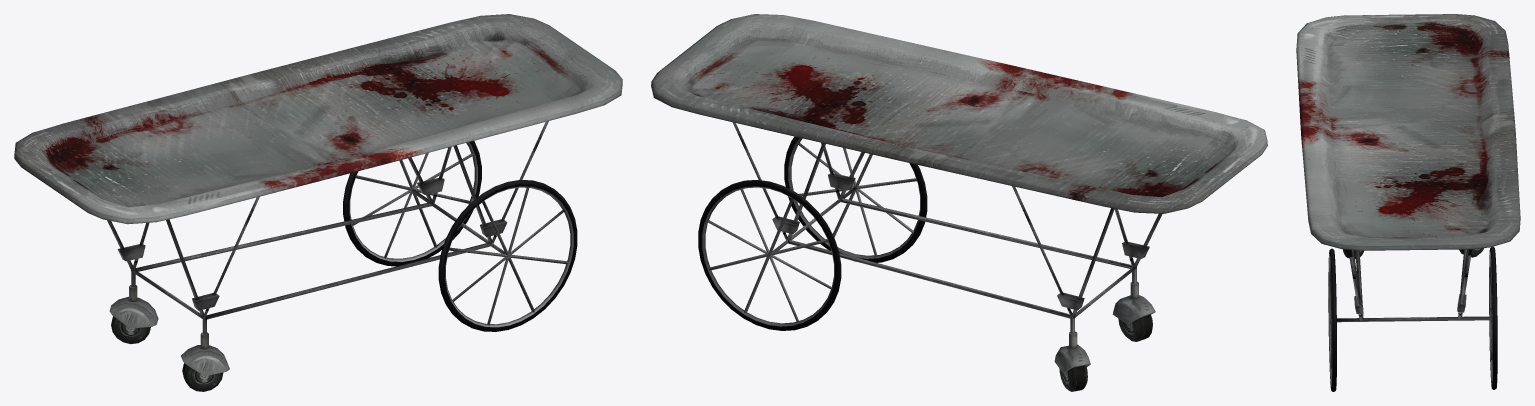
The model's file is operationTable.fbx.
3 renders of one model, left to right at view 1: azimuth 30°, elevation 25°; view 2: azimuth 150°, elevation 25°; view 3: azimuth 270°, elevation 25°, orthographic. The views are drawn at different scales.
Visible parts, largest first — view 1: polySurface471; view 2: polySurface471; view 3: polySurface471.
Part boxes in pixels (x1,y1,x2,y2): polySurface471: (14, 14, 622, 391); polySurface471: (651, 14, 1267, 391); polySurface471: (1296, 14, 1520, 391).
Bounding box in the file's own units: 210 × 81.22 × 85.48.
